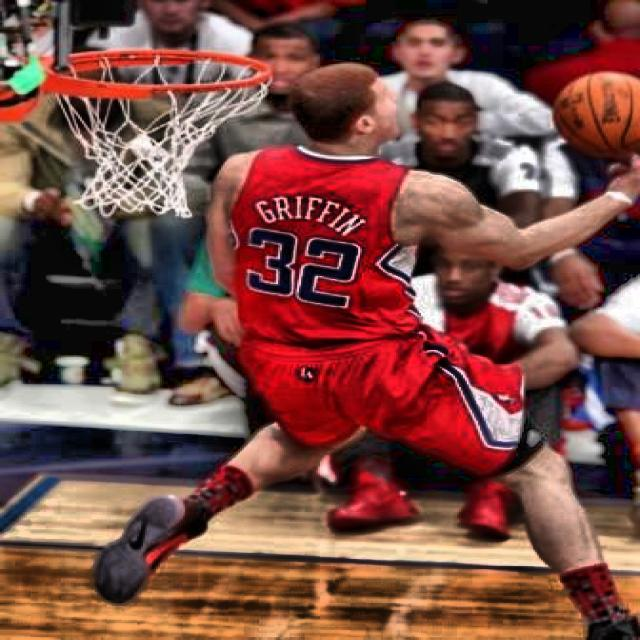board: (552, 71, 640, 158)
rim: (48, 49, 270, 218)
